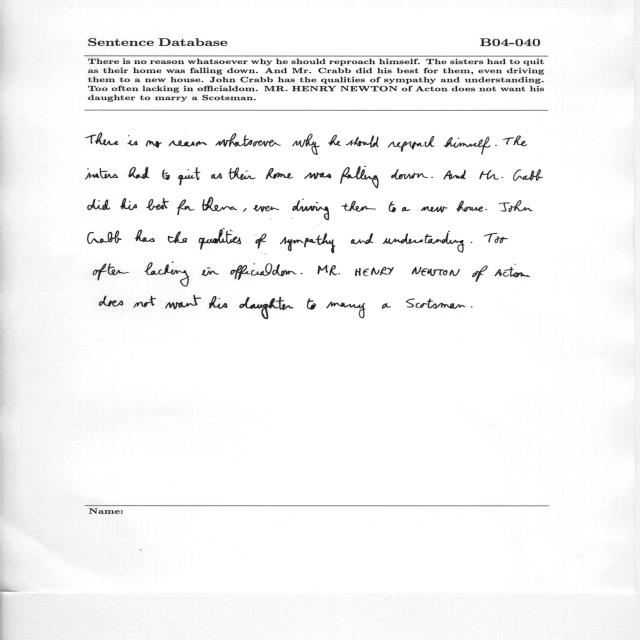word: (383, 231, 464, 253), (239, 297, 293, 319), (230, 263, 297, 280), (144, 262, 189, 287), (280, 233, 335, 253), (198, 228, 241, 250), (215, 133, 281, 147), (340, 167, 379, 189), (444, 137, 490, 155), (293, 199, 329, 220), (388, 136, 434, 152), (327, 302, 366, 319), (406, 298, 466, 309), (93, 264, 129, 281), (292, 134, 320, 155), (202, 197, 237, 212), (165, 295, 201, 309), (88, 230, 122, 244), (495, 264, 530, 277), (412, 267, 460, 276), (86, 133, 119, 146), (498, 200, 533, 212), (346, 135, 378, 148), (391, 169, 428, 180), (178, 168, 200, 186), (341, 201, 376, 212), (228, 167, 256, 180), (85, 168, 118, 179), (513, 169, 543, 181), (355, 267, 394, 276), (146, 198, 169, 211), (266, 168, 293, 179), (457, 201, 484, 212), (177, 199, 195, 215), (133, 296, 156, 308), (472, 265, 488, 282), (169, 140, 207, 147), (128, 167, 150, 179), (99, 296, 123, 307), (483, 233, 508, 243), (209, 296, 228, 309), (88, 199, 110, 210), (351, 233, 373, 244), (318, 265, 340, 276), (503, 136, 527, 146), (480, 170, 504, 180), (135, 230, 155, 242), (443, 170, 466, 180), (168, 231, 187, 243), (120, 198, 137, 210), (304, 173, 331, 180), (421, 206, 448, 213), (253, 205, 279, 212), (256, 234, 267, 249), (201, 267, 219, 276), (328, 135, 341, 146), (127, 135, 138, 146), (146, 140, 161, 148), (307, 298, 316, 310), (162, 169, 170, 180), (389, 202, 396, 213), (211, 173, 222, 179), (382, 303, 391, 309), (402, 207, 411, 211), (243, 208, 247, 212), (495, 145, 497, 146), (431, 177, 433, 178), (485, 209, 487, 210), (471, 242, 473, 243), (471, 306, 472, 308), (301, 273, 302, 274)
